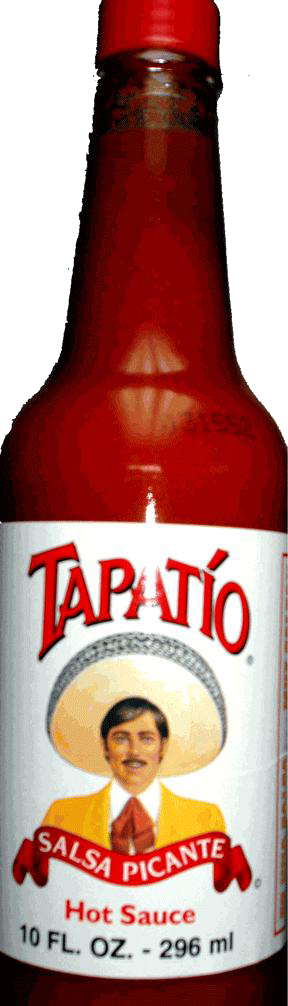grozi_44: (0, 0, 288, 1006)
